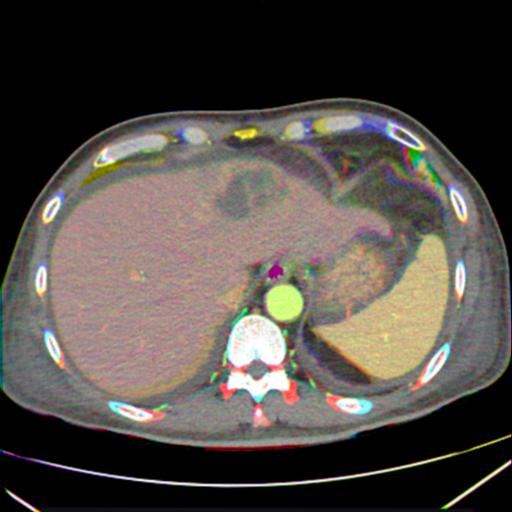Tumor: (216, 168, 289, 213)
